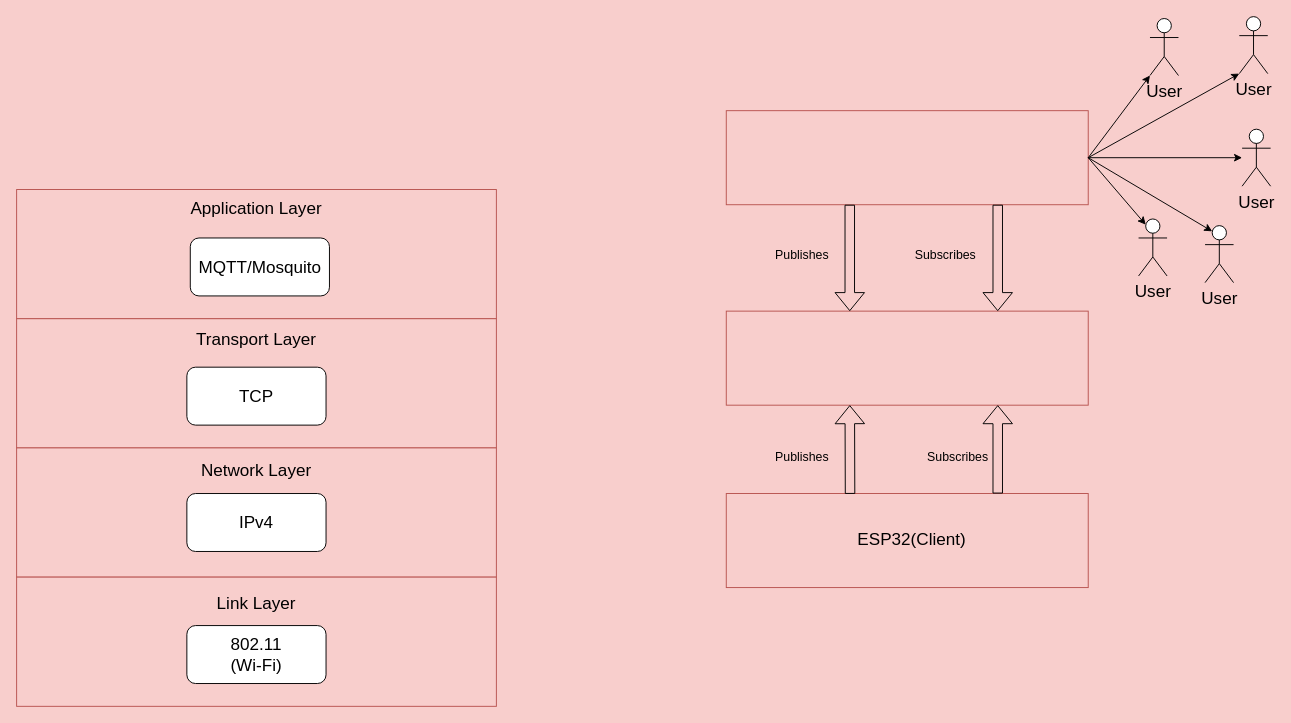
The diagram is 1291 pixels wide and 723 high, and some of its shapes have lost their labels. Here are the shapes that lost their labels. From the top down, the centre of each, then its label:
At (x=906, y=157): "Mobile application(Client)".
At (x=906, y=357): "RPI(broker)".
